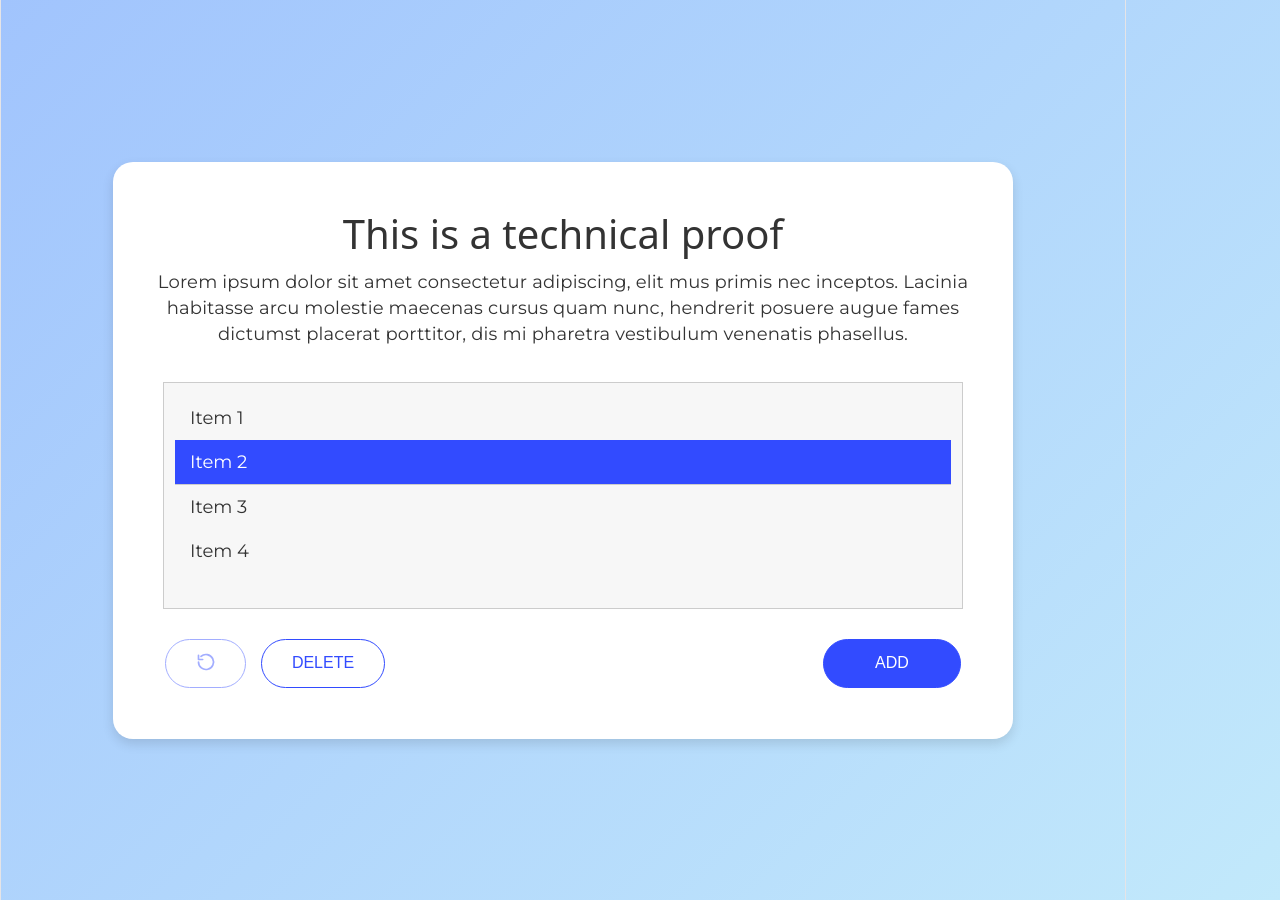
Scenario: App › undoes the last change
The image size is (1280, 900).
Double-click the text "Item 4" at (220, 550), box top-left (190, 540), bottom-right (249, 562)
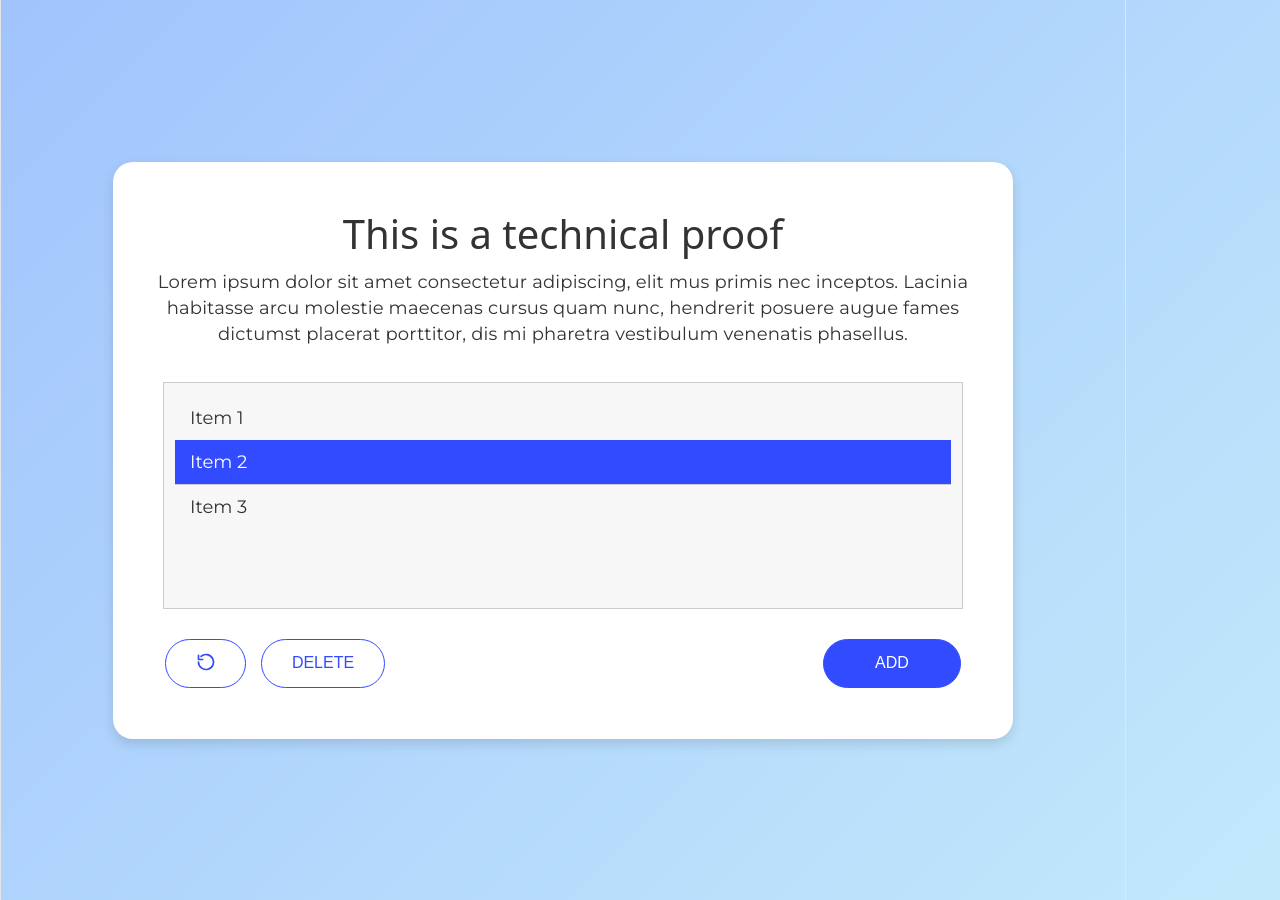
Check: the text "Item 4" is gone
Click the button named "Undo last action" at (206, 663), box top-left (165, 638), bottom-right (246, 688)
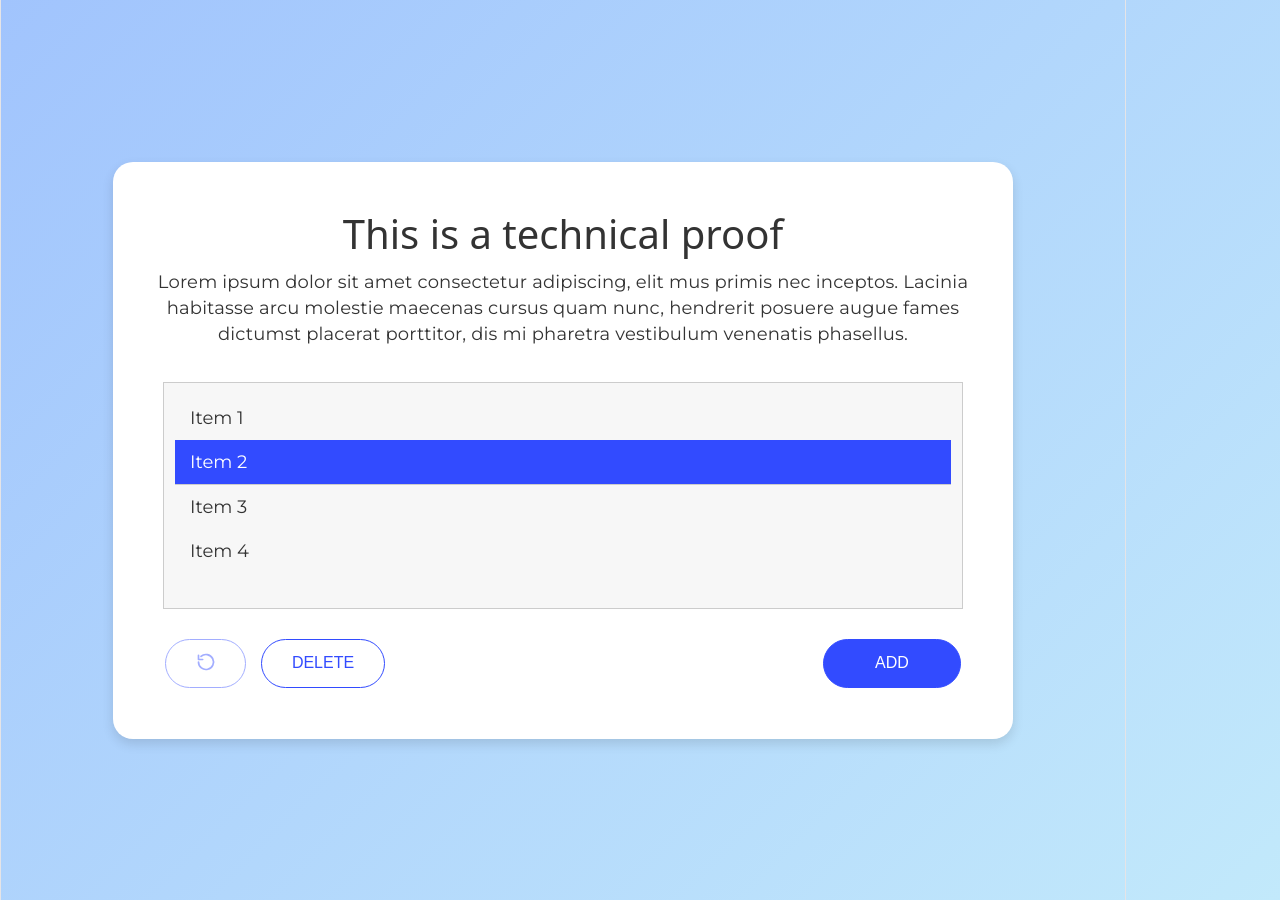
Check: the text "Item 4" is shown, box top-left (190, 540), bottom-right (249, 562)
